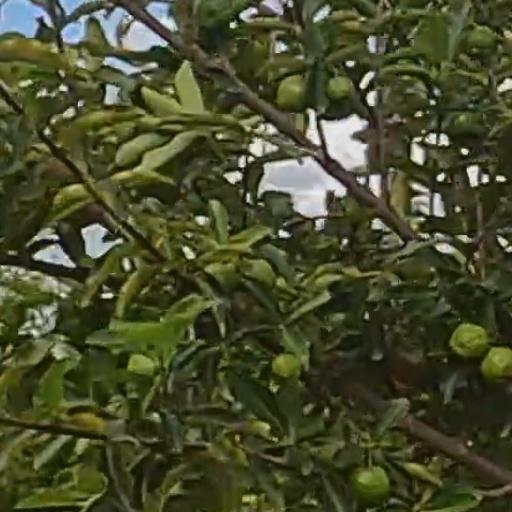acerola_verde: (450, 325, 487, 355), (355, 467, 389, 498), (485, 347, 509, 385), (279, 76, 305, 107), (330, 77, 355, 101), (275, 355, 300, 378)
